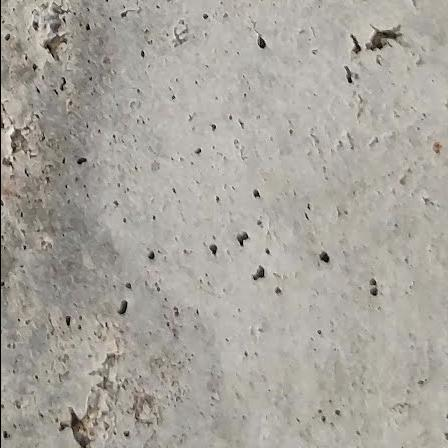spalling: (51, 341, 136, 448), (26, 0, 75, 66)
